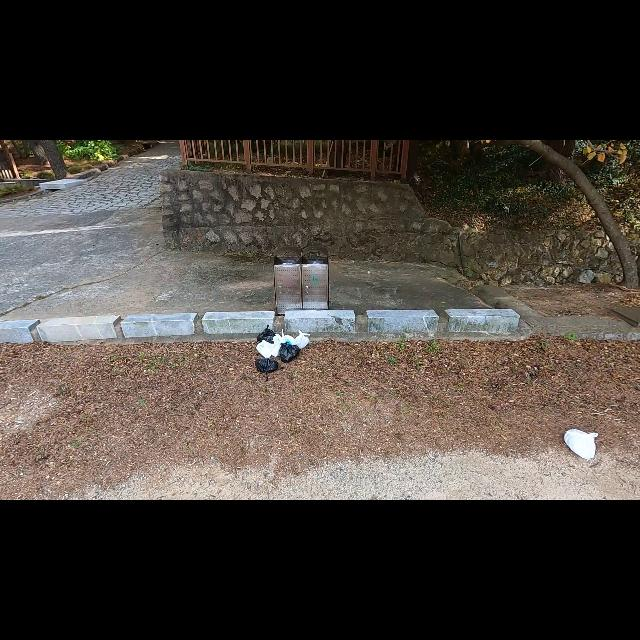trash: (560, 424, 600, 466), (252, 358, 280, 382), (279, 342, 301, 364), (254, 324, 276, 346), (276, 330, 296, 350), (256, 338, 272, 360), (294, 330, 310, 350), (269, 341, 281, 357)
